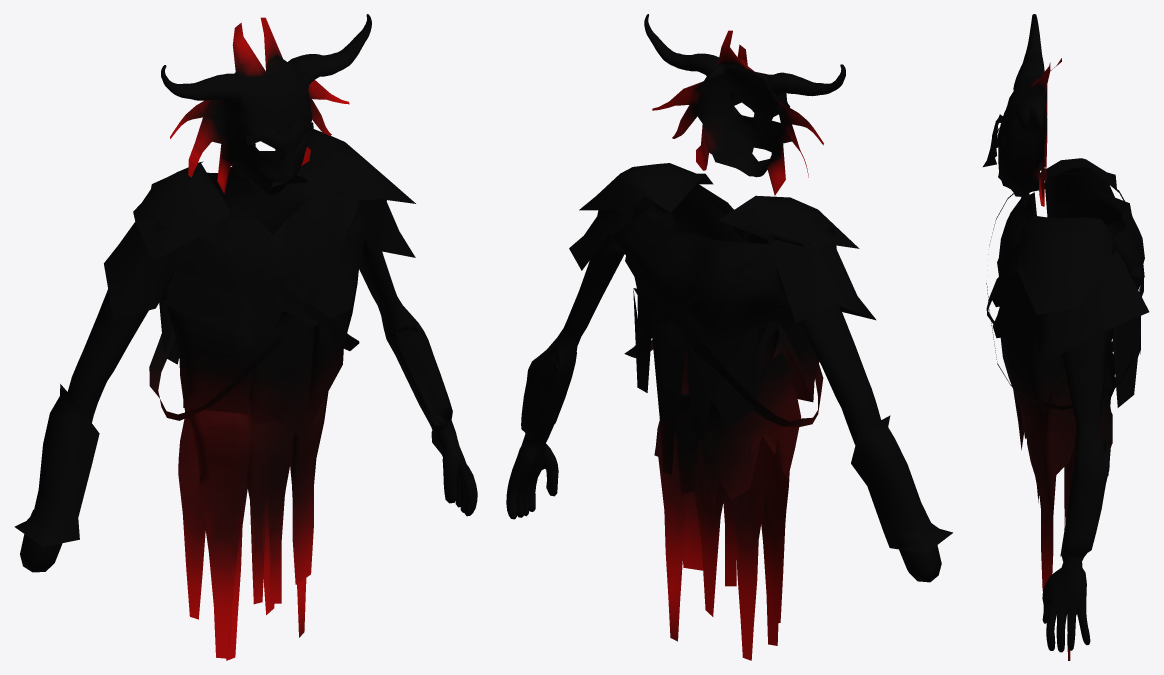
Rendered from deamom01.FBX.
The picture shows the model from 3 angles, left to right: view 1: azimuth 30°, elevation 25°; view 2: azimuth 150°, elevation 25°; view 3: azimuth 270°, elevation 25°; orthographic projection. The views are drawn at different scales.
Parts seen in each view (by area): view 1: Demon01; view 2: Demon01; view 3: Demon01.
Boxes of the visible parts, left/top/right/bottom form: Demon01: left=14, top=14, right=477, bottom=660; Demon01: left=506, top=14, right=952, bottom=660; Demon01: left=983, top=14, right=1149, bottom=660.
Bounding box in the file's own units: 61.99 × 86.28 × 21.94.
